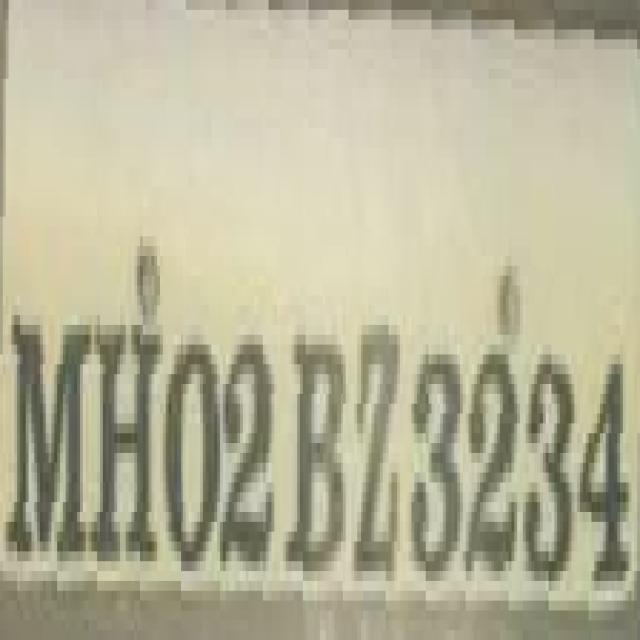plate: (0, 10, 617, 581)
